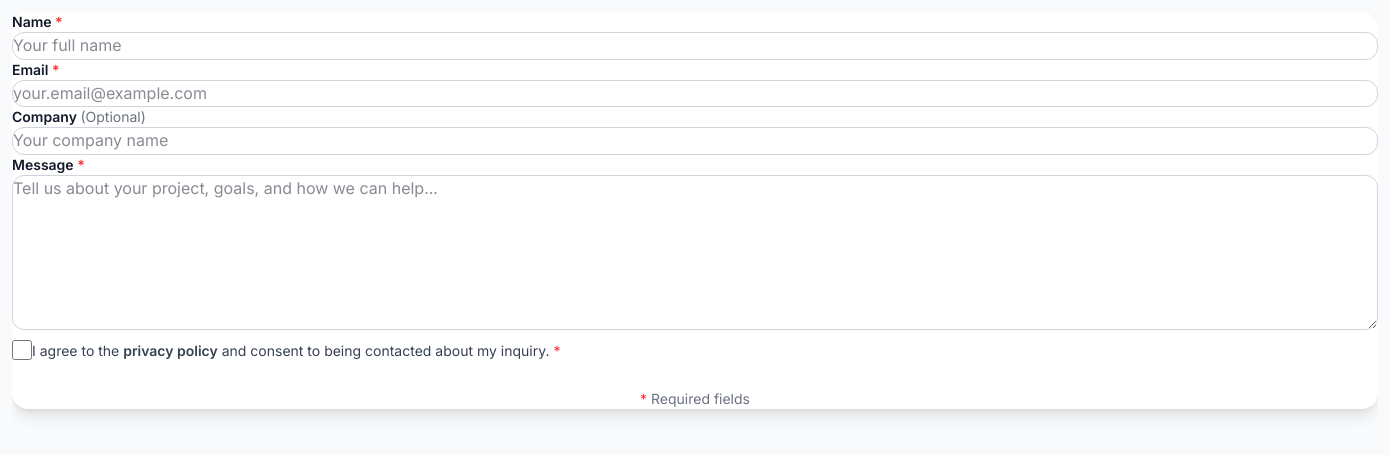
Test: ContactForm › displays validation error for short message
Step 1. Type "Short" into the text box labelled "Message *" → (695,253), box x1=12 y1=175 x2=1378 y2=330
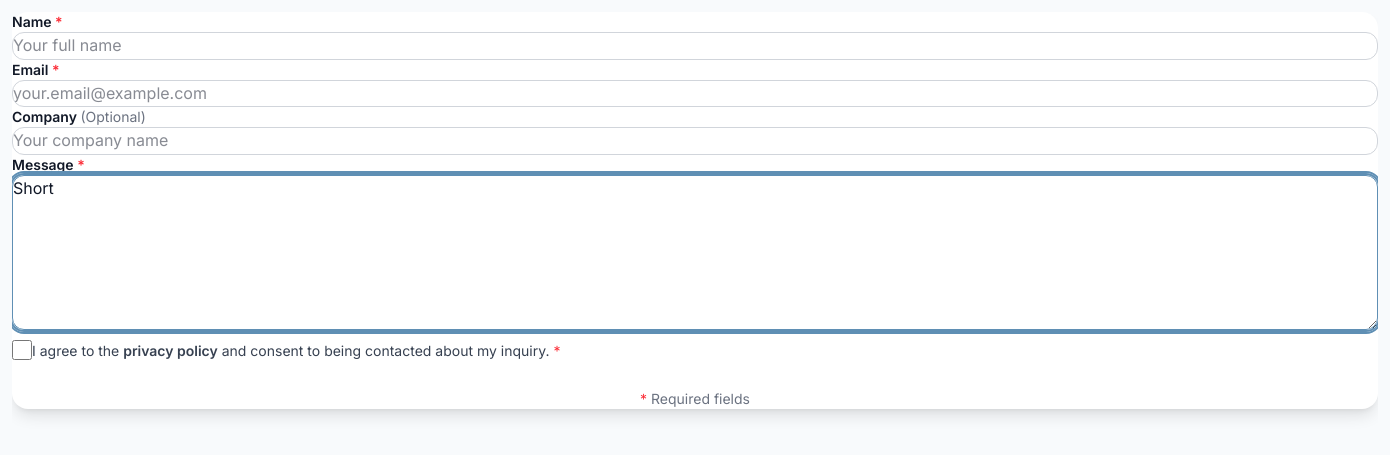
Step 2. Press Tab
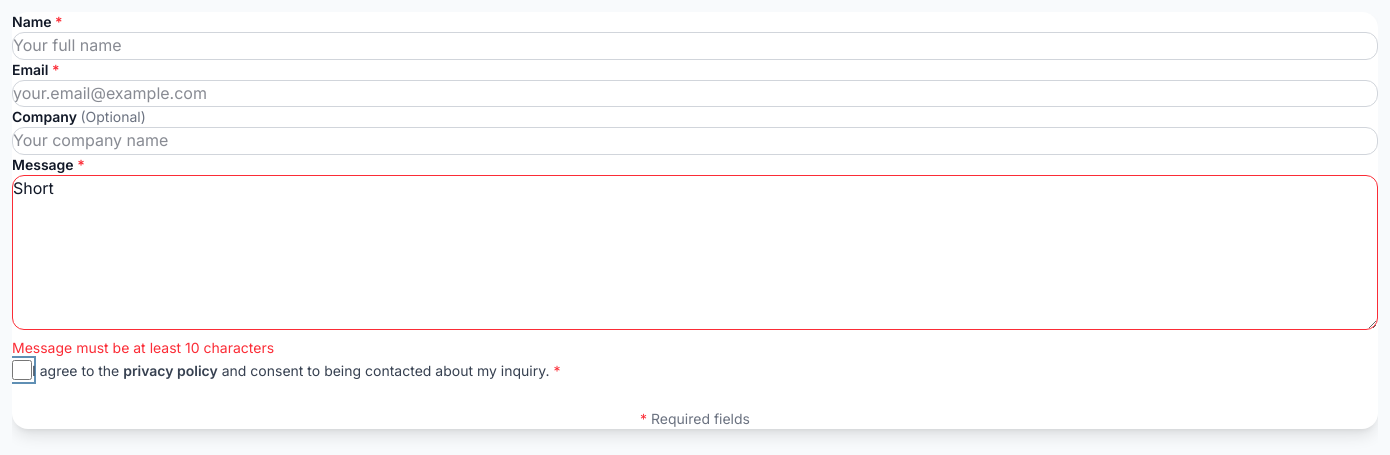
Result: the text "Message must be at least 10 characters" is shown at x1=12 y1=339 x2=274 y2=356
